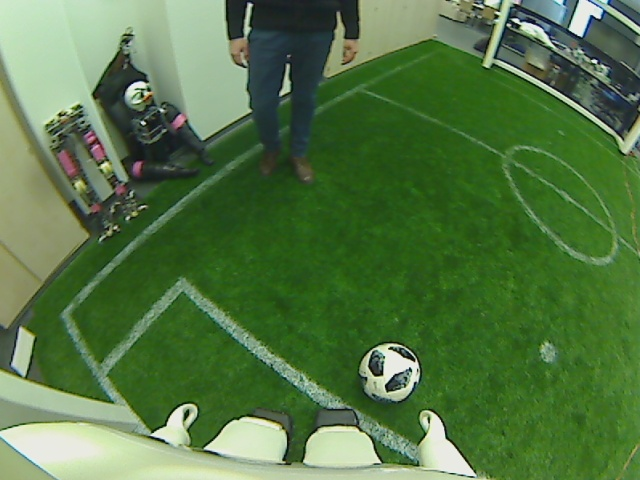ball: (355, 340, 423, 406)
